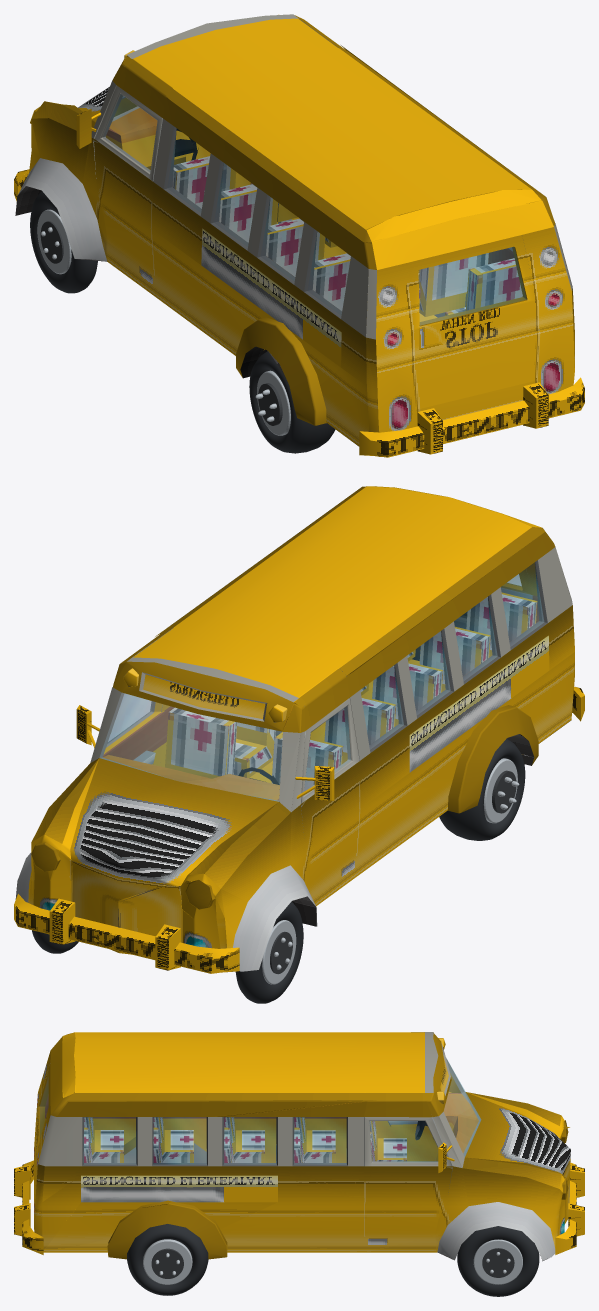
Rendered from car-otto_v.glb.
3 views of the same model, one above another, from view 1: azimuth 30°, elevation 25°; view 2: azimuth 150°, elevation 25°; view 3: azimuth 270°, elevation 25° (orthographic). The views are drawn at different scales.
Visible parts, largest first — view 1: otto_vShape.007, otto_vShape.003, otto_vShape.006, otto_vShape.004, otto_vShape.005, otto_vShape.002, TrunkRotShape.024, DSideWindShape, trunkWindShape, DoorDRotShape.097, Rounded tire.140, DoorDWindShape.003 (+10 smaller); view 2: otto_vShape.007, otto_vShape.004, otto_vShape.003, otto_vShape.006, otto_vShape.005, HoodRotShape.024, frontWindShape, DSideWindShape, DoorDRotShape.097, Rounded tire.140, DoorDWindShape.003, Rounded tire.142 (+9 smaller); view 3: otto_vShape.003, otto_vShape.007, otto_vShape.004, otto_vShape.006, otto_vShape.005, PSideWindShape, DoorPRotShape.106, HoodRotShape.024, Rounded tire.141, Rounded tire.143, DoorPWindShape.003, frontWindShape (+10 smaller).
Part boxes in pixels (x1,y1,x2,y2): otto_vShape.007: [132, 18, 553, 269]; otto_vShape.003: [29, 101, 574, 456]; otto_vShape.006: [14, 14, 584, 457]; otto_vShape.004: [17, 14, 555, 425]; otto_vShape.005: [106, 108, 522, 350]; otto_vShape.002: [376, 227, 574, 432]; TrunkRotShape.024: [409, 235, 537, 409]; DSideWindShape: [167, 129, 350, 315]; trunkWindShape: [419, 247, 526, 325]; DoorDRotShape.097: [94, 139, 155, 275]; Rounded tire.140: [249, 351, 335, 453]; DoorDWindShape.003: [103, 94, 157, 172]; otto_vShape.007: [133, 486, 541, 702]; otto_vShape.004: [16, 486, 555, 971]; otto_vShape.003: [28, 605, 574, 948]; otto_vShape.006: [14, 547, 584, 973]; otto_vShape.005: [103, 560, 547, 802]; HoodRotShape.024: [70, 758, 278, 886]; frontWindShape: [99, 693, 282, 801]; DSideWindShape: [360, 562, 543, 749]; DoorDRotShape.097: [301, 761, 360, 889]; Rounded tire.140: [439, 738, 525, 840]; DoorDWindShape.003: [304, 706, 350, 791]; Rounded tire.142: [235, 901, 303, 1003]; otto_vShape.003: [34, 1092, 562, 1252]; otto_vShape.007: [50, 1032, 424, 1114]; otto_vShape.004: [51, 1033, 570, 1260]; otto_vShape.006: [14, 1032, 584, 1254]; otto_vShape.005: [45, 1073, 478, 1166]; PSideWindShape: [83, 1117, 346, 1164]; DoorPRotShape.106: [364, 1166, 452, 1236]; HoodRotShape.024: [465, 1092, 570, 1174]; Rounded tire.141: [457, 1226, 539, 1296]; Rounded tire.143: [127, 1224, 208, 1295]; DoorPWindShape.003: [370, 1121, 437, 1161]; frontWindShape: [444, 1058, 480, 1156].
Size of the model in its own units: 2.73 by 2.77 by 7.07.
13 materials, 10 textured.
